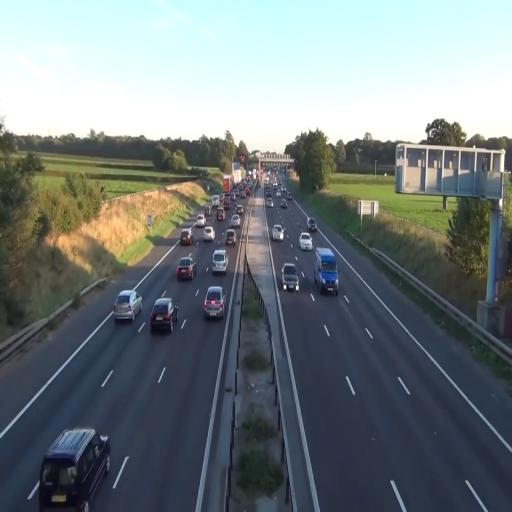vehicle: (38, 427, 112, 510), (314, 245, 338, 296), (150, 296, 178, 334), (114, 288, 142, 322), (203, 286, 225, 321), (280, 261, 300, 292), (176, 256, 194, 282), (211, 250, 228, 274), (271, 224, 286, 242), (299, 231, 313, 250), (179, 228, 193, 246), (202, 226, 215, 243), (225, 227, 236, 246)
